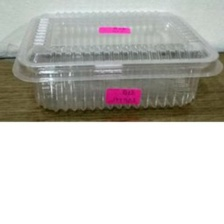plastic_box: (6, 4, 223, 119)
